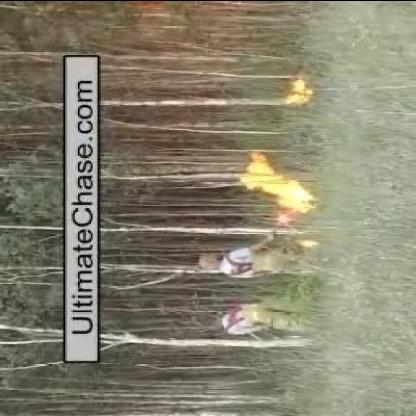foggia-v2-map80-epoch100 - v1 4323: (247, 151, 320, 225), (290, 80, 311, 102)
